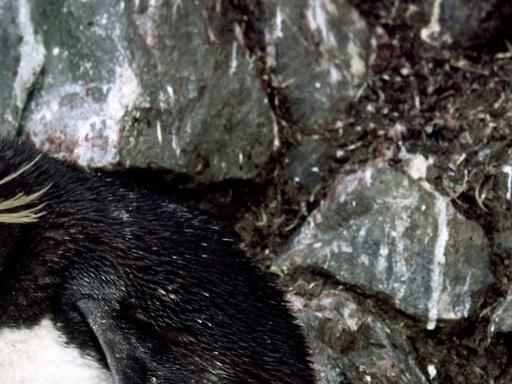Southern Rockhopper Penguin: (0, 136, 491, 384)
